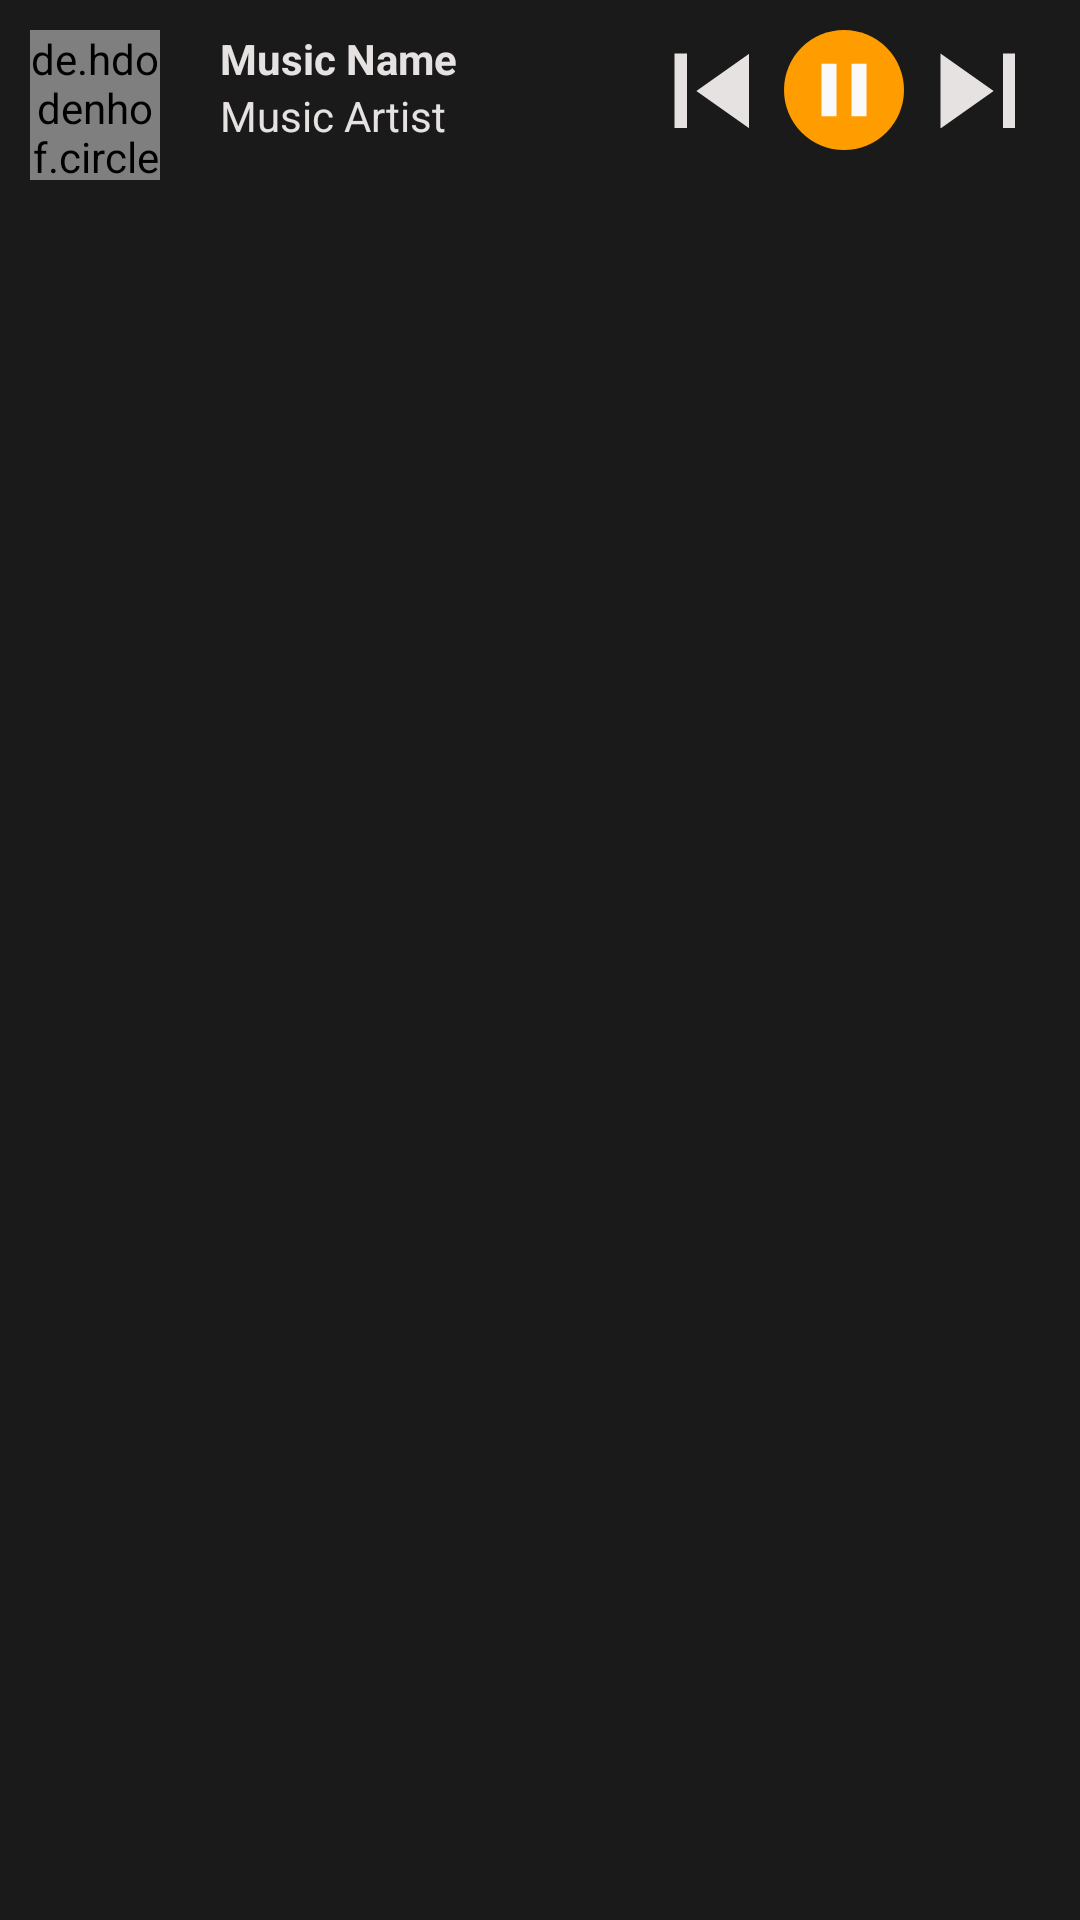

Icon click points for this 1080px×1920px phone screenshot, format [x,y]:
next: [977,90]
pause: [844,90]
prev: [711,90]
